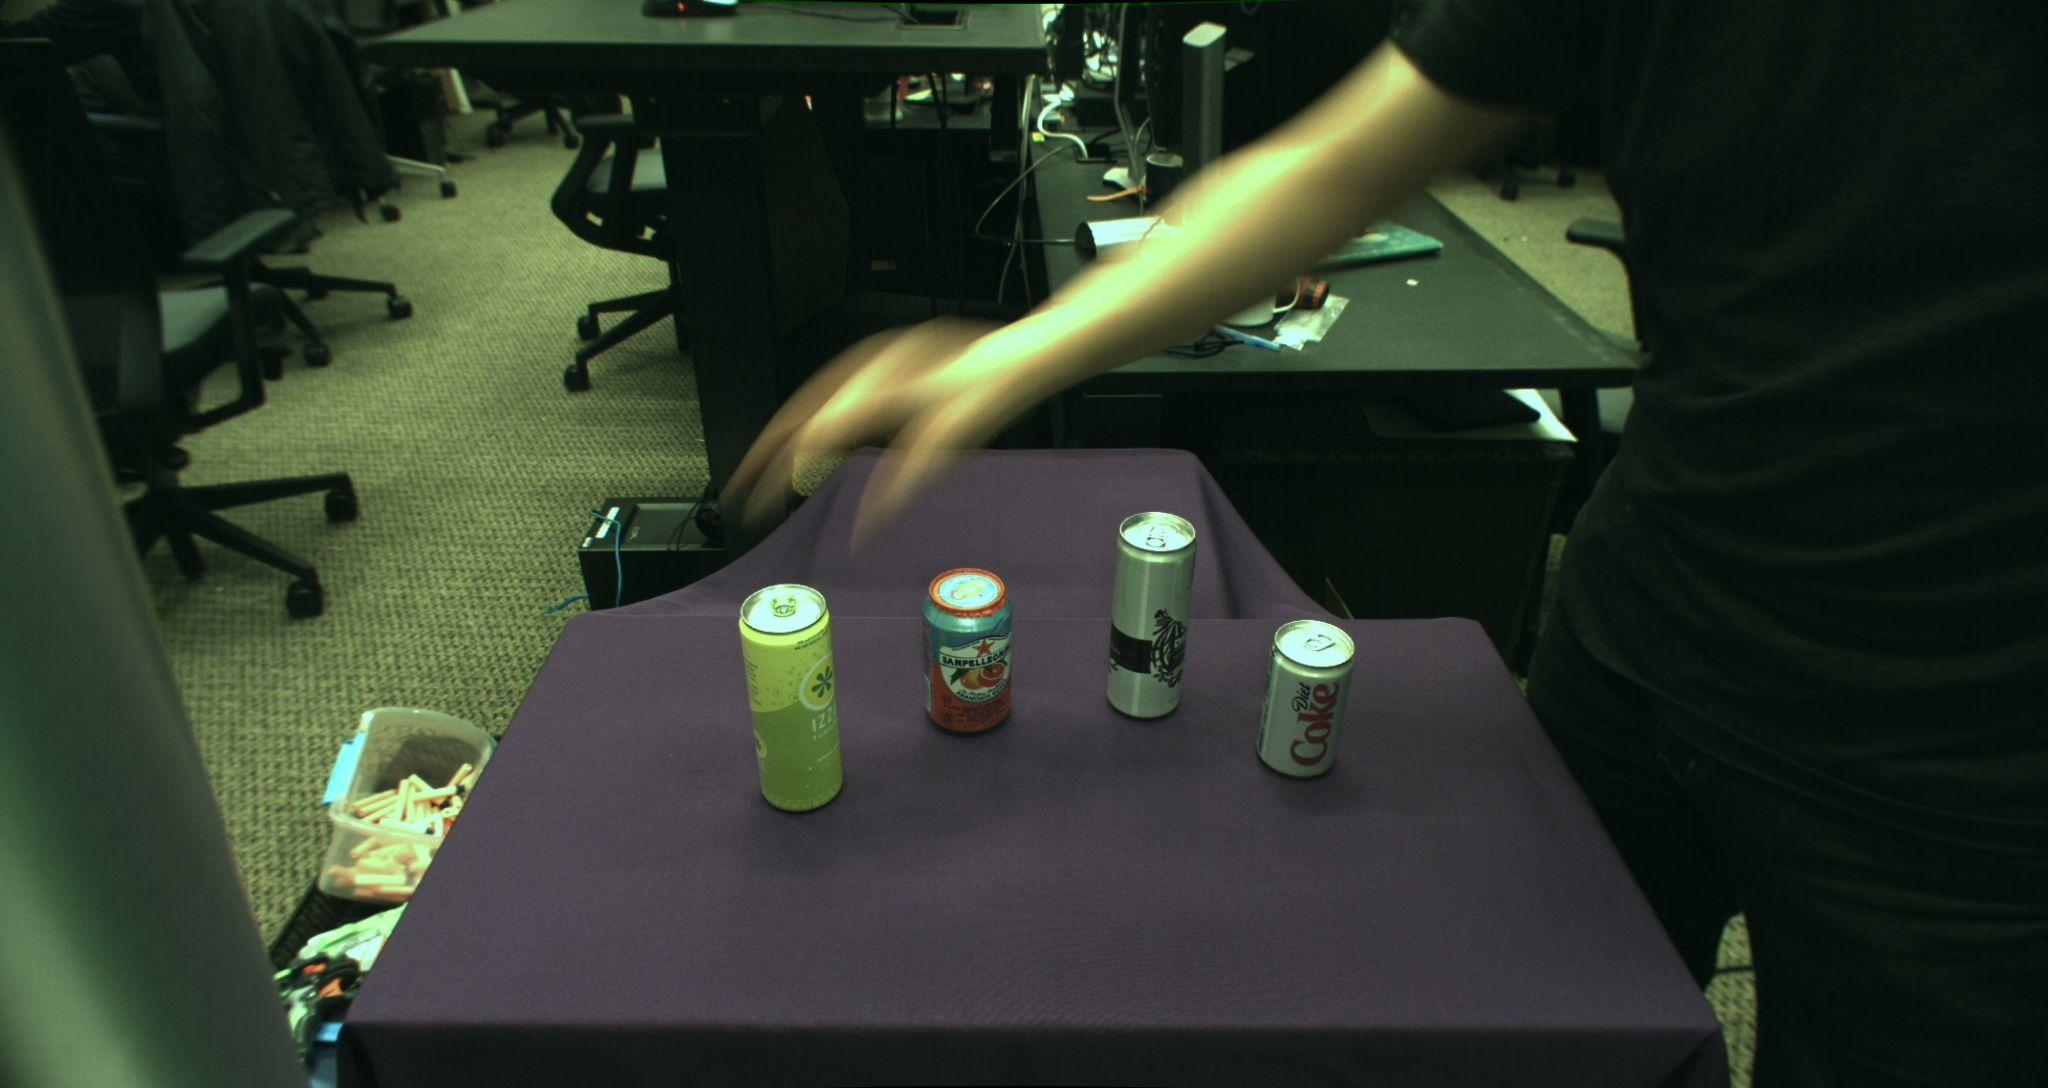can_diet_coke_small: (1254, 618, 1354, 778)
can_dry_sparkling_vanilla_bean: (1107, 509, 1197, 719)
can_izze_fusions_lemon_lime: (737, 583, 845, 814)
can_sanpellegrino_blood_orange: (922, 566, 1013, 734)
